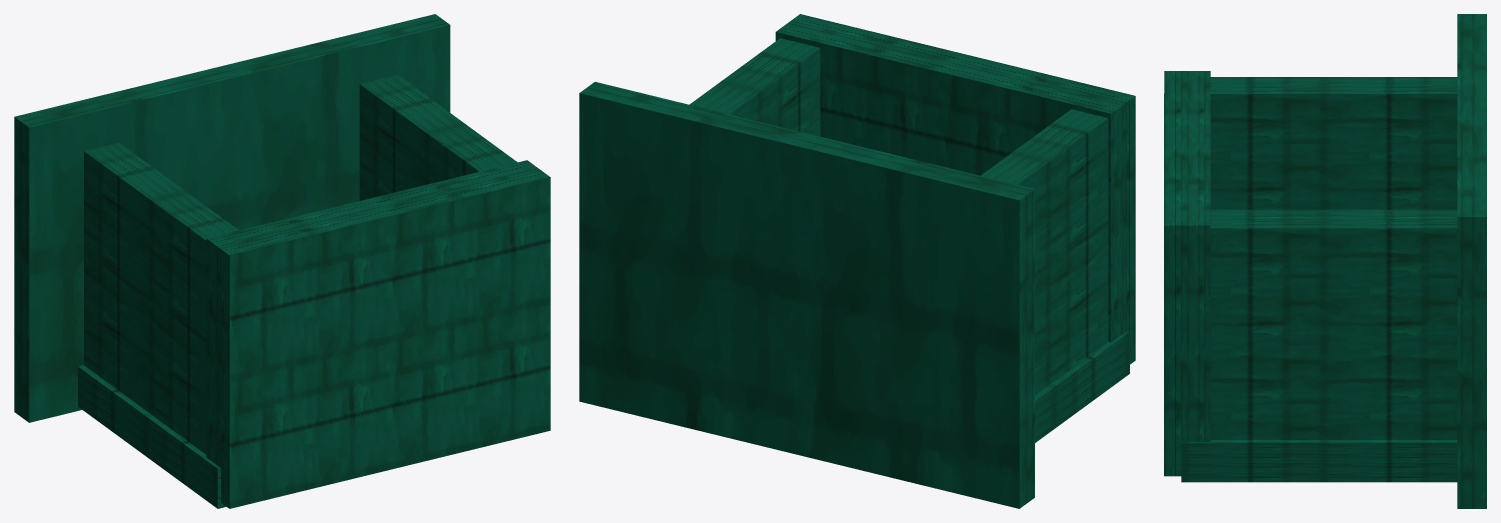
File: rooom2dp_wtf.obj
The picture shows the model from 3 angles, left to right: view 1: azimuth 30°, elevation 25°; view 2: azimuth 150°, elevation 25°; view 3: azimuth 270°, elevation 25°; orthographic projection. The views are drawn at different scales.
Visible parts, largest first — view 1: group2; view 2: group2; view 3: group2.
Part boxes in pixels (x1=…): group2: x1=14, y1=14, x2=550, y2=508; group2: x1=579, y1=14, x2=1135, y2=508; group2: x1=1164, y1=14, x2=1486, y2=508.
Size of the model in its own units: 660 by 442 by 443.
